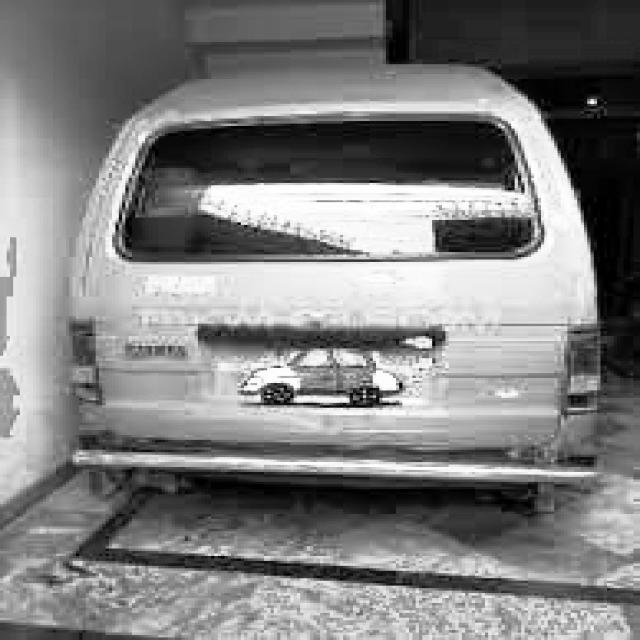LCV: (69, 57, 617, 516)
